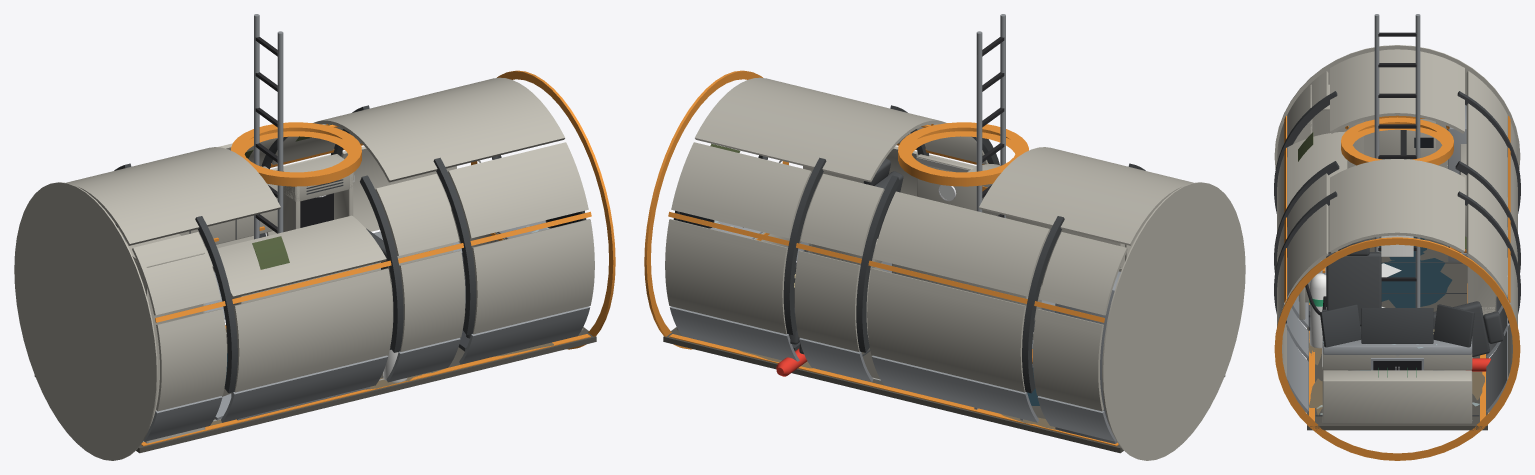
File: SM_Sub2_Interior_Wrecked.fbx
3 renders of one model, left to right at view 1: azimuth 30°, elevation 25°; view 2: azimuth 150°, elevation 25°; view 3: azimuth 270°, elevation 25°, orthographic. The views are drawn at different scales.
Parts seen in each view (by area): view 1: SM_Sub2_Interior_Wrecked; view 2: SM_Sub2_Interior_Wrecked; view 3: SM_Sub2_Interior_Wrecked.
Part boxes in pixels (x1,y1,x2,y2): SM_Sub2_Interior_Wrecked: (14, 14, 615, 460); SM_Sub2_Interior_Wrecked: (644, 14, 1245, 460); SM_Sub2_Interior_Wrecked: (1274, 14, 1520, 460).
Bounding box in the file's own units: 3.82 × 3.02 × 2.05.
